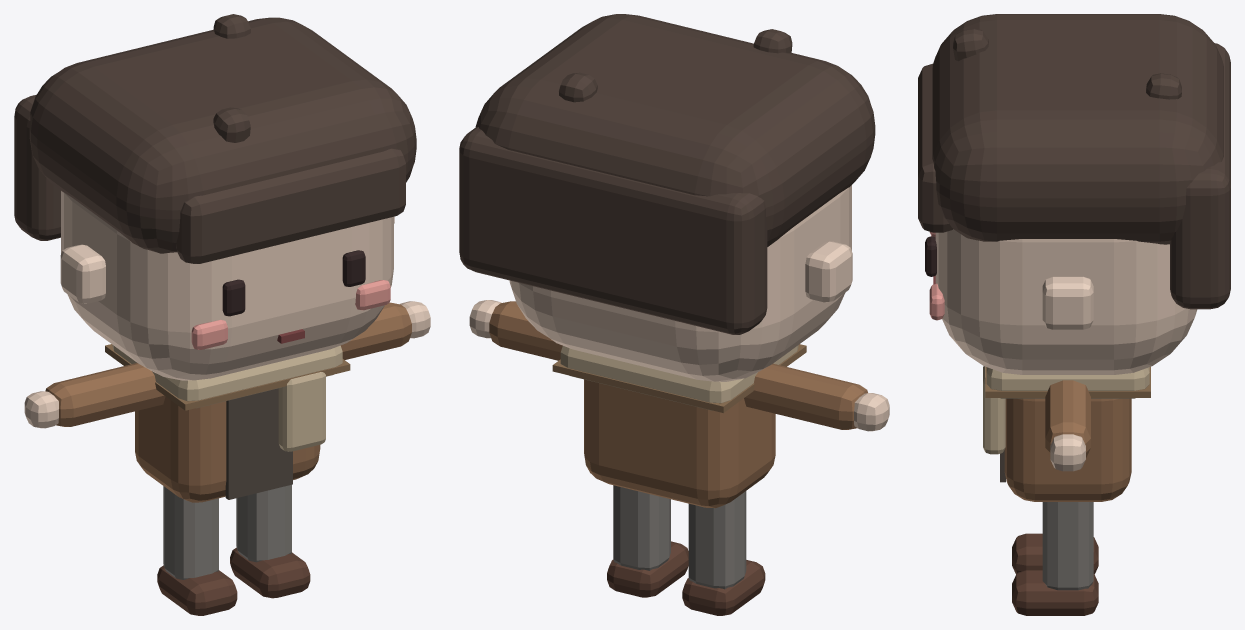
File: CHAR_Customer_normal_boyscarf.fbx
3 renders of one model, left to right at view 1: azimuth 30°, elevation 25°; view 2: azimuth 150°, elevation 25°; view 3: azimuth 270°, elevation 25°, orthographic. The views are drawn at different scales.
Visible parts, largest first — view 1: CHAR_Customer_normal_boyscarf; view 2: CHAR_Customer_normal_boyscarf; view 3: CHAR_Customer_normal_boyscarf.
Part boxes in pixels (box(x1,y1,x2,y2)): CHAR_Customer_normal_boyscarf: box(14, 14, 430, 615); CHAR_Customer_normal_boyscarf: box(459, 14, 889, 615); CHAR_Customer_normal_boyscarf: box(918, 14, 1230, 615).
Size of the model in its own units: 0.093 by 0.1172 by 0.0615.
